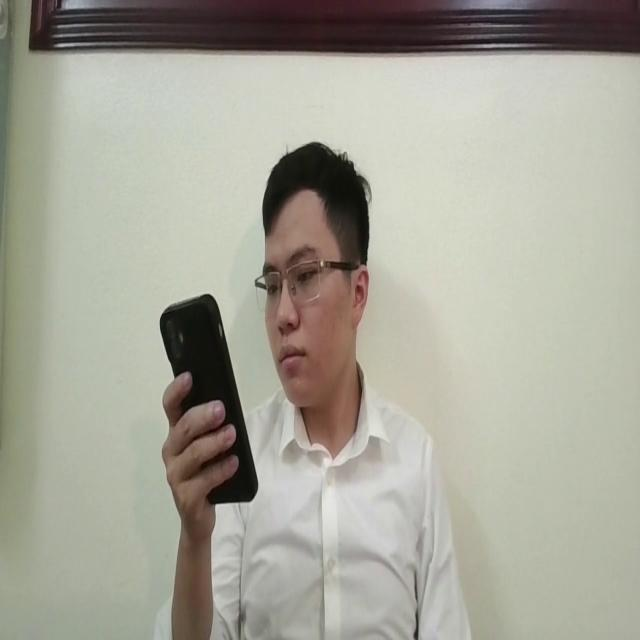phone: (160, 289, 260, 505)
student: (162, 138, 464, 640)
